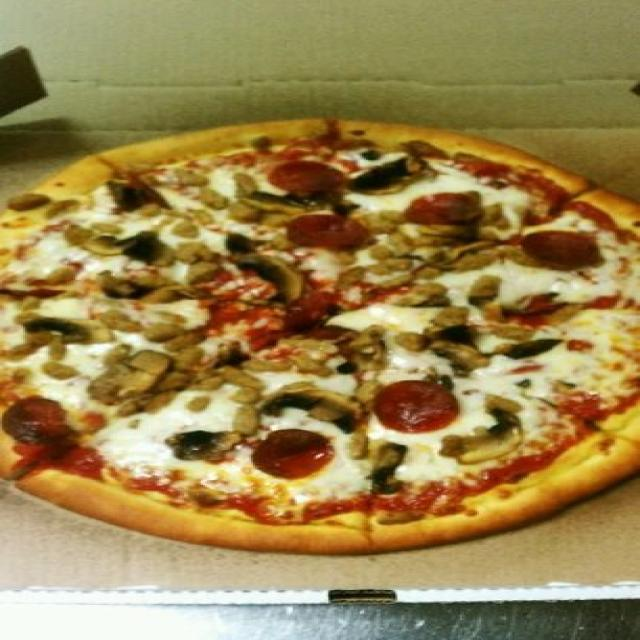Mushrooms: (48, 224, 177, 267), (394, 321, 492, 369), (444, 410, 526, 466), (19, 308, 108, 356), (177, 344, 264, 391), (234, 172, 302, 223), (105, 352, 172, 403), (80, 269, 188, 300), (278, 383, 362, 422), (351, 440, 408, 494), (167, 163, 232, 206), (351, 153, 422, 189), (122, 316, 206, 346), (428, 239, 507, 270), (148, 206, 222, 236), (424, 214, 504, 238), (507, 283, 558, 319), (166, 432, 235, 458), (497, 332, 566, 356), (358, 204, 408, 234), (360, 250, 417, 276), (225, 399, 264, 433), (391, 286, 457, 306), (430, 308, 468, 336), (459, 275, 497, 303), (329, 270, 372, 289), (381, 226, 415, 249), (188, 260, 225, 277), (174, 240, 220, 253), (30, 363, 79, 374), (180, 398, 217, 409)
Pepperoni: (413, 184, 488, 228), (372, 385, 446, 428), (248, 433, 326, 472), (2, 400, 72, 440), (278, 212, 360, 244), (538, 230, 596, 269), (282, 160, 342, 190)
Pizza: (0, 120, 636, 554)
